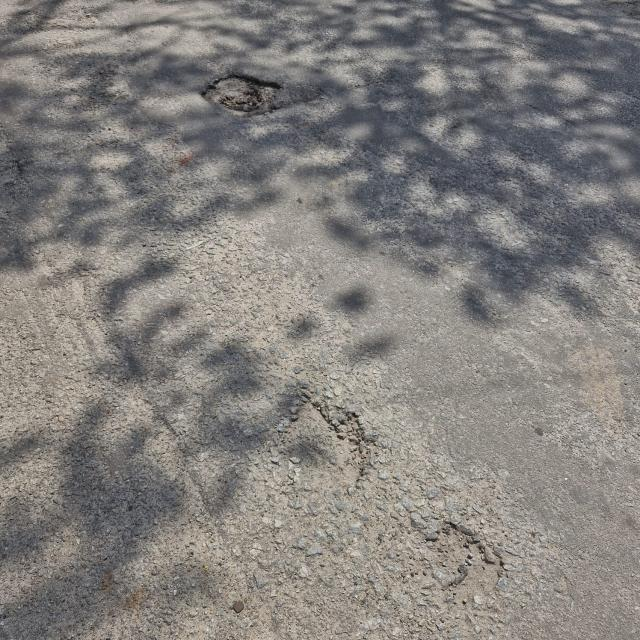pothole: (278, 388, 380, 513), (402, 514, 512, 626), (197, 67, 287, 119)
